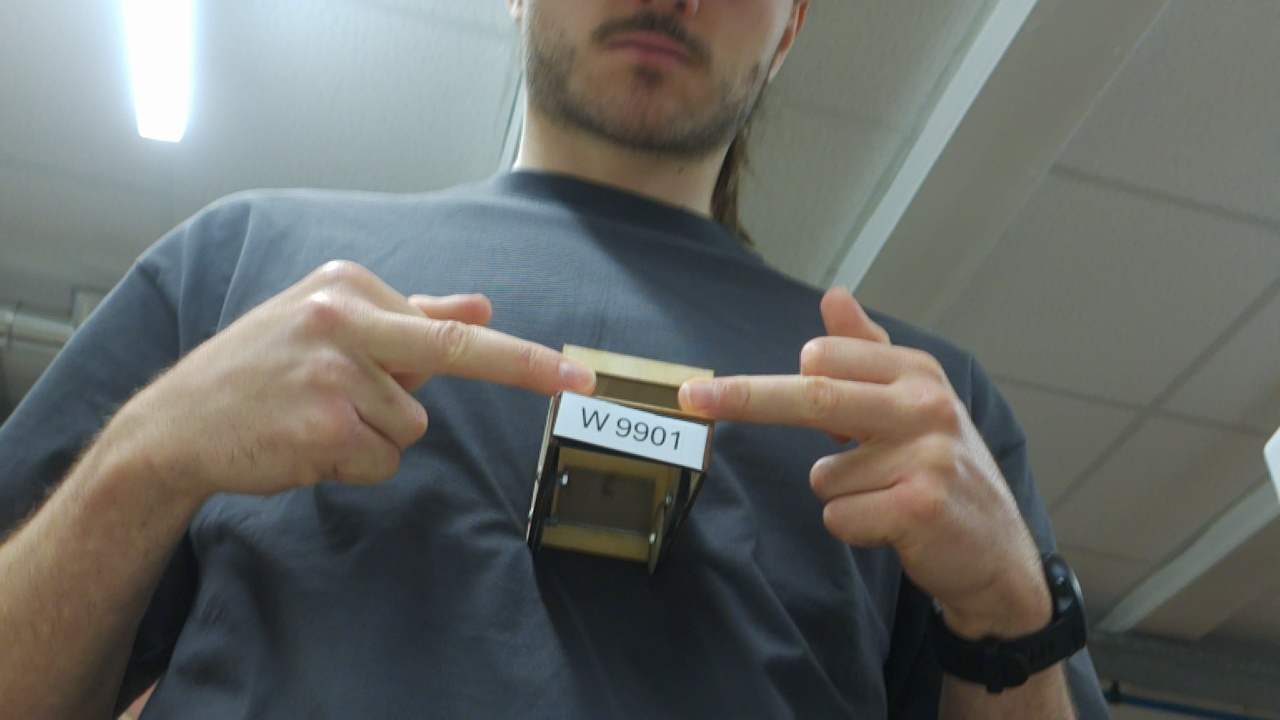license_plate: (549, 385, 719, 475)
